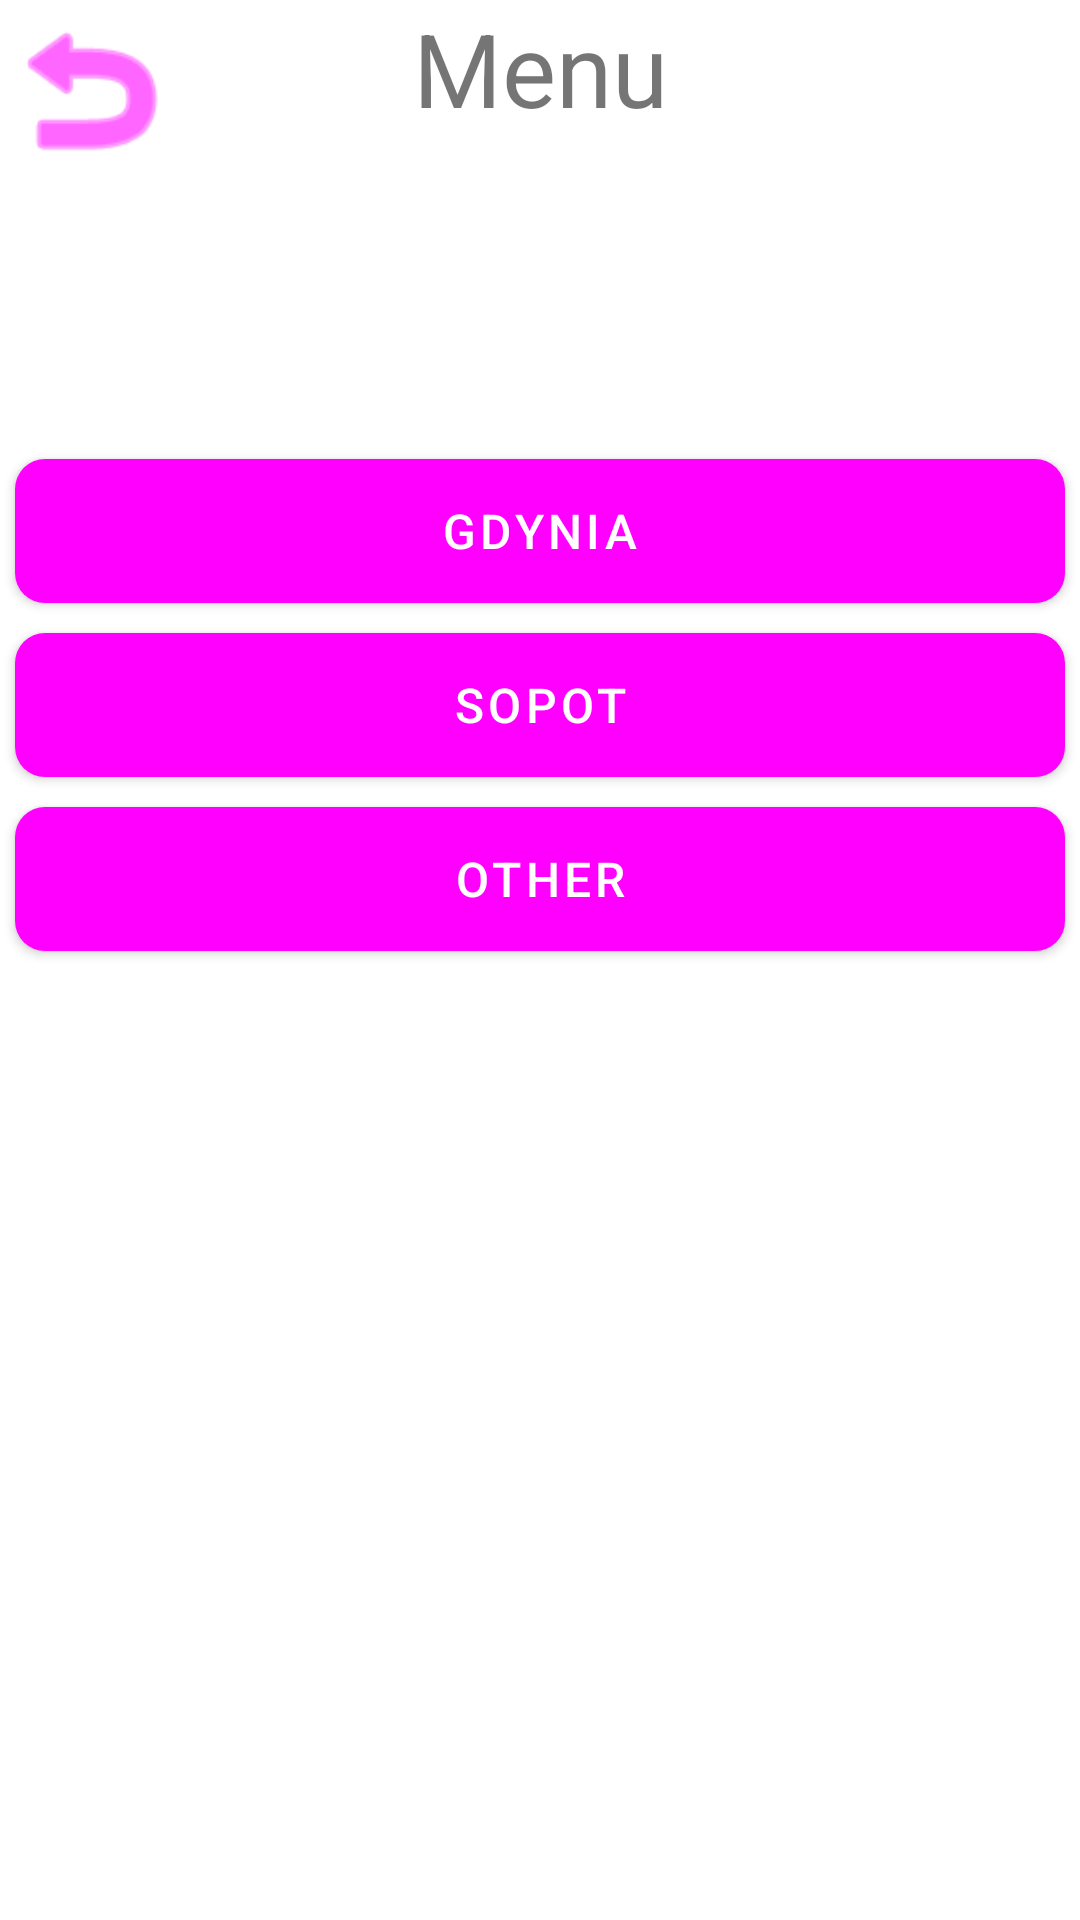

Where to tap for icons on this 1080*1920 app screen, as point (x, y):
revert: point (92, 91)
